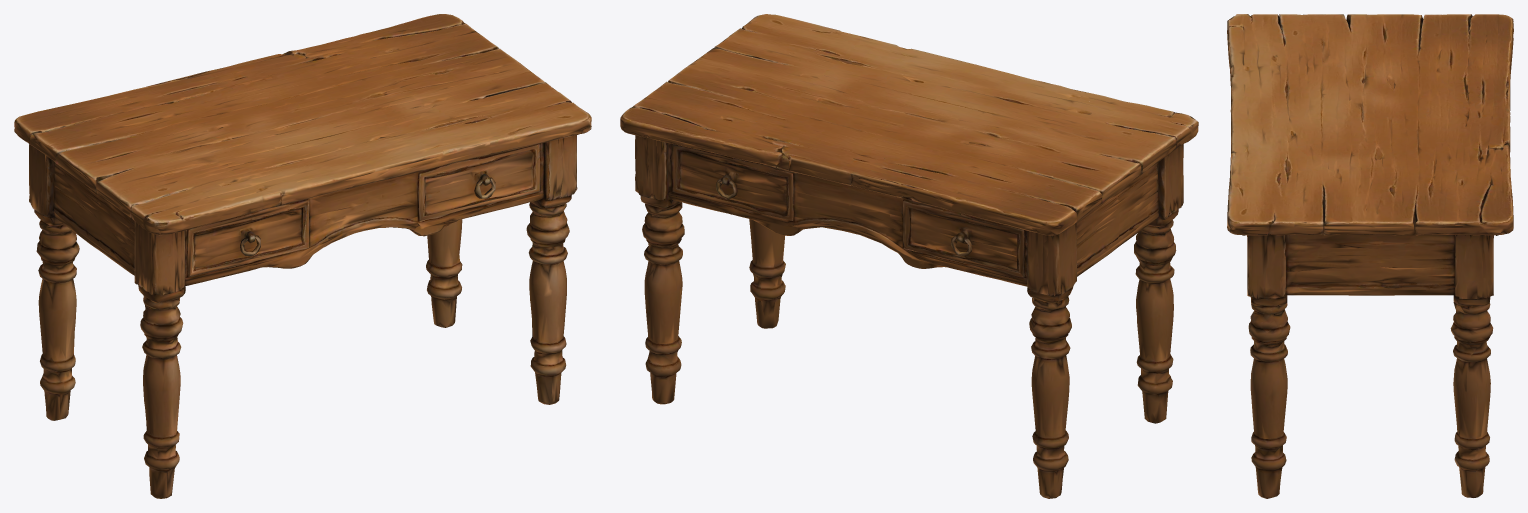
Rendered from study_desk_a_v1.glb.
The picture shows the model from 3 angles, left to right: view 1: azimuth 30°, elevation 25°; view 2: azimuth 150°, elevation 25°; view 3: azimuth 270°, elevation 25°; orthographic projection. The views are drawn at different scales.
Parts seen in each view (by area): view 1: tripo_node_1d73f28a-1eb8-4edb-8d3c-eb4e8dc003a4; view 2: tripo_node_1d73f28a-1eb8-4edb-8d3c-eb4e8dc003a4; view 3: tripo_node_1d73f28a-1eb8-4edb-8d3c-eb4e8dc003a4.
Boxes of the visible parts, x1,y1,x2,y2 form: tripo_node_1d73f28a-1eb8-4edb-8d3c-eb4e8dc003a4: [14, 14, 591, 498]; tripo_node_1d73f28a-1eb8-4edb-8d3c-eb4e8dc003a4: [620, 14, 1198, 498]; tripo_node_1d73f28a-1eb8-4edb-8d3c-eb4e8dc003a4: [1227, 14, 1513, 498].
Size of the model in its own units: 0.9796 by 0.6225 by 0.5651.
Materials: 1 (1 with a texture image).
